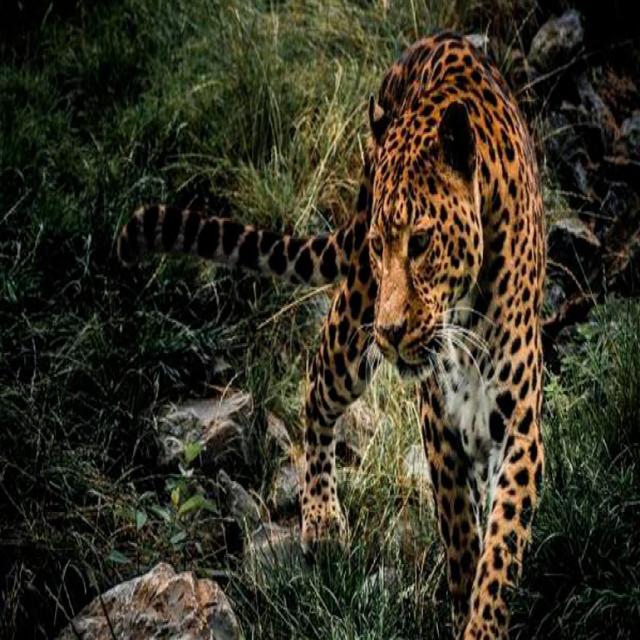Leopard: (304, 30, 546, 634)
